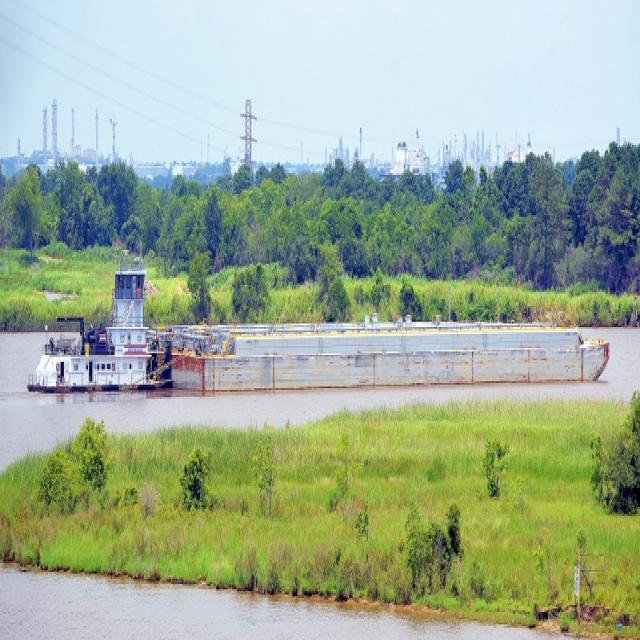tugboat: (24, 251, 176, 401)
